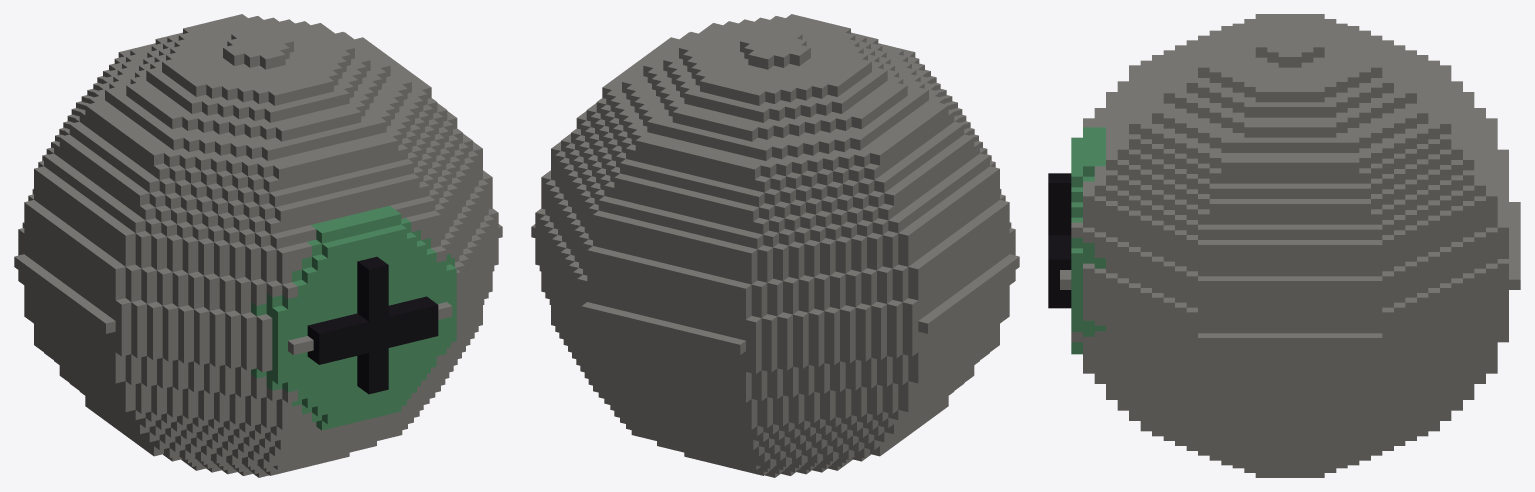
Rendered from petrified_eye.glb.
3 views of the same model, side by side, from view 1: azimuth 30°, elevation 25°; view 2: azimuth 150°, elevation 25°; view 3: azimuth 270°, elevation 25° (orthographic).
Parts seen in each view (by area): view 1: petrified_eye:compound; view 2: petrified_eye:compound; view 3: petrified_eye:compound.
Part boxes in pixels (x1,y1,x2,y2): petrified_eye:compound: [14, 14, 502, 477]; petrified_eye:compound: [531, 14, 1019, 477]; petrified_eye:compound: [1048, 14, 1520, 477].
Bounding box in the file's own units: 0.08 × 0.078 × 0.082.
